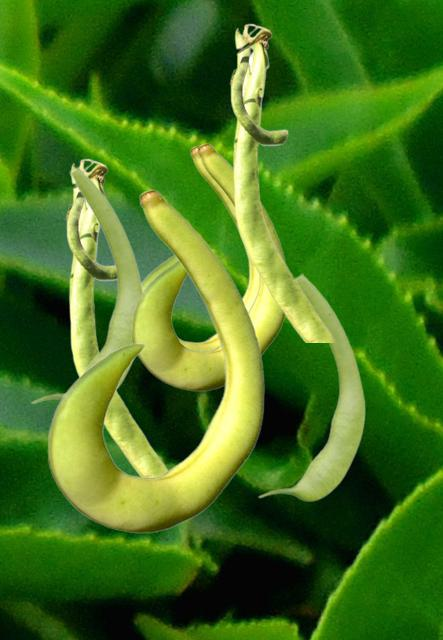french_bean: (47, 189, 264, 532), (131, 143, 285, 390), (229, 23, 334, 341), (65, 158, 168, 475), (30, 165, 144, 406), (257, 272, 365, 500), (142, 145, 258, 349)
